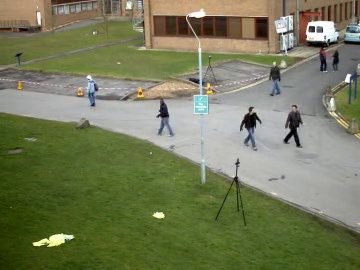person: (282, 104, 302, 147), (86, 77, 99, 108)
